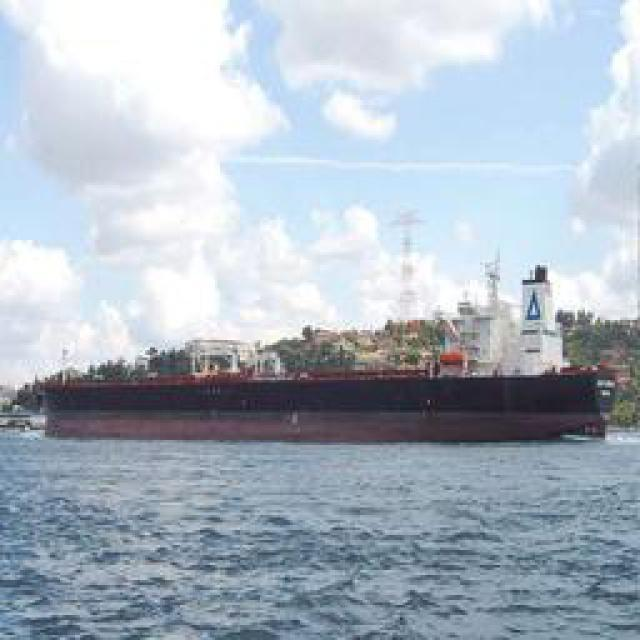Ship: (42, 356, 620, 439)
